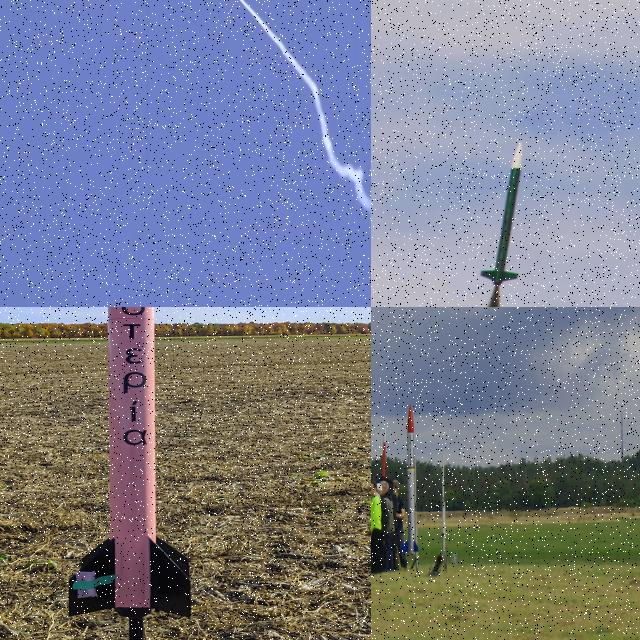Rocket: (69, 307, 191, 618), (480, 140, 524, 286), (401, 404, 419, 554), (382, 426, 386, 491)
